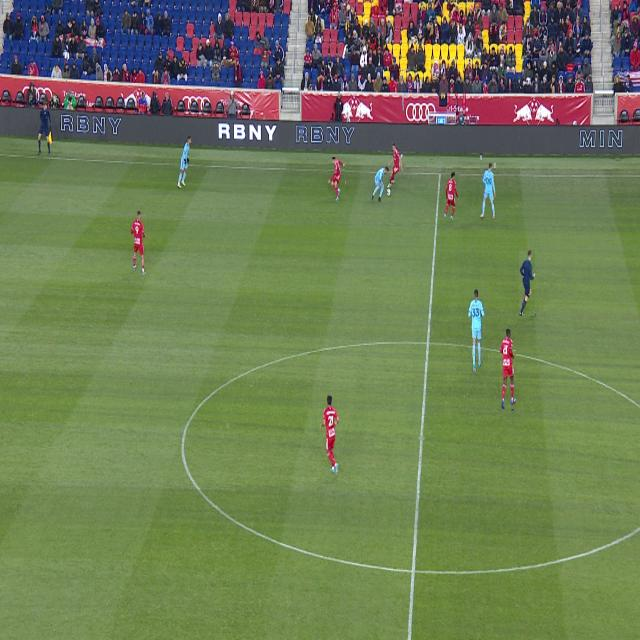player: (320, 395, 339, 475), (468, 289, 485, 372), (500, 329, 516, 409), (131, 210, 146, 275), (480, 163, 496, 219), (177, 136, 192, 188), (387, 142, 403, 188), (444, 173, 459, 220), (329, 157, 345, 201), (372, 166, 388, 201)
referee: (520, 251, 535, 316), (387, 189, 391, 196)
